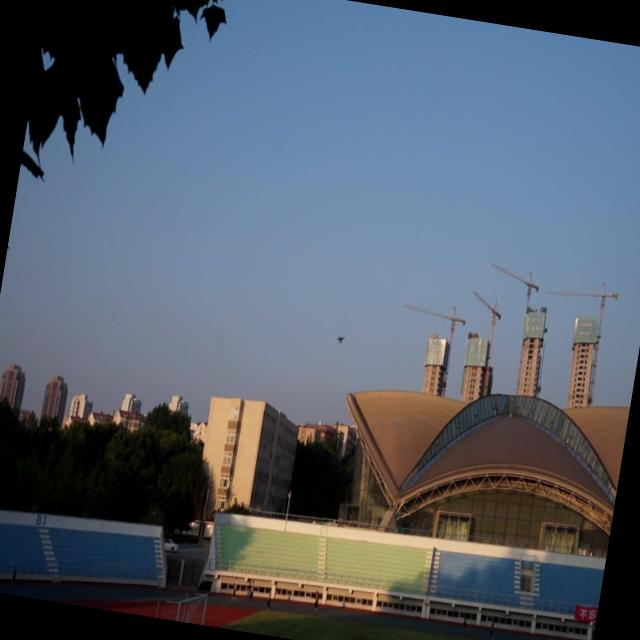drone: (333, 332, 348, 348)
